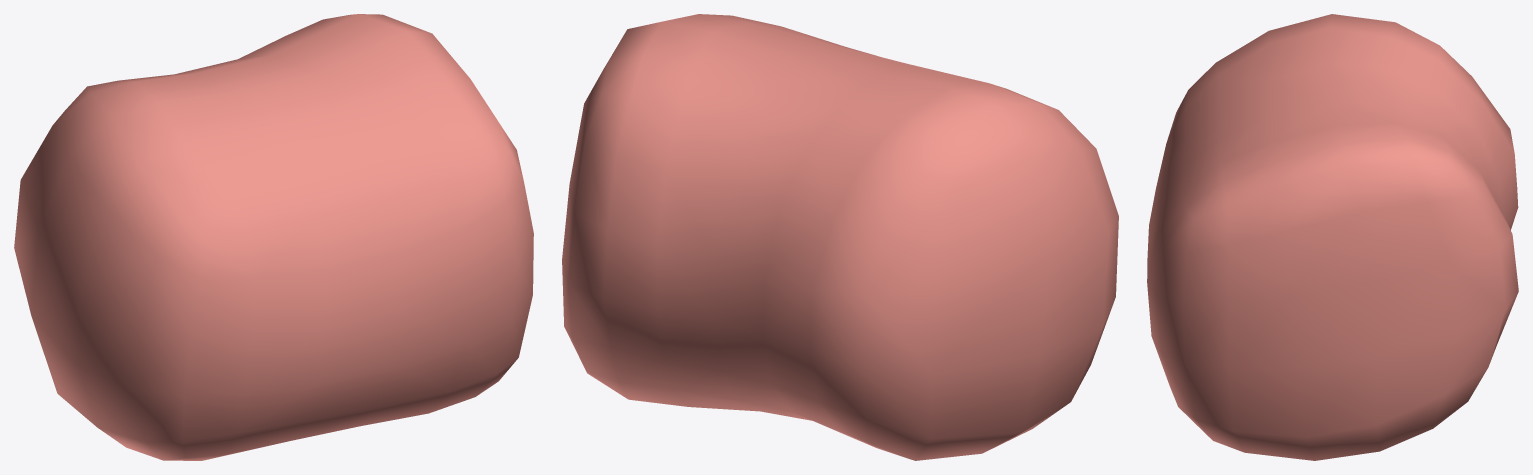
File: mixamo_humanoid_surface_rightHandRing2.fbx
3 views of the same model, side by side, from view 1: azimuth 30°, elevation 25°; view 2: azimuth 150°, elevation 25°; view 3: azimuth 270°, elevation 25° (orthographic). The views are drawn at different scales.
Parts seen in each view (by area): view 1: surface_RightHandRing2; view 2: surface_RightHandRing2; view 3: surface_RightHandRing2.
Part boxes in pixels (box(x1,y1,x2,y2)): surface_RightHandRing2: box(14, 14, 533, 460); surface_RightHandRing2: box(562, 14, 1118, 460); surface_RightHandRing2: box(1147, 14, 1518, 460).
Size of the model in its own units: 2.29 by 1.69 by 1.81.
